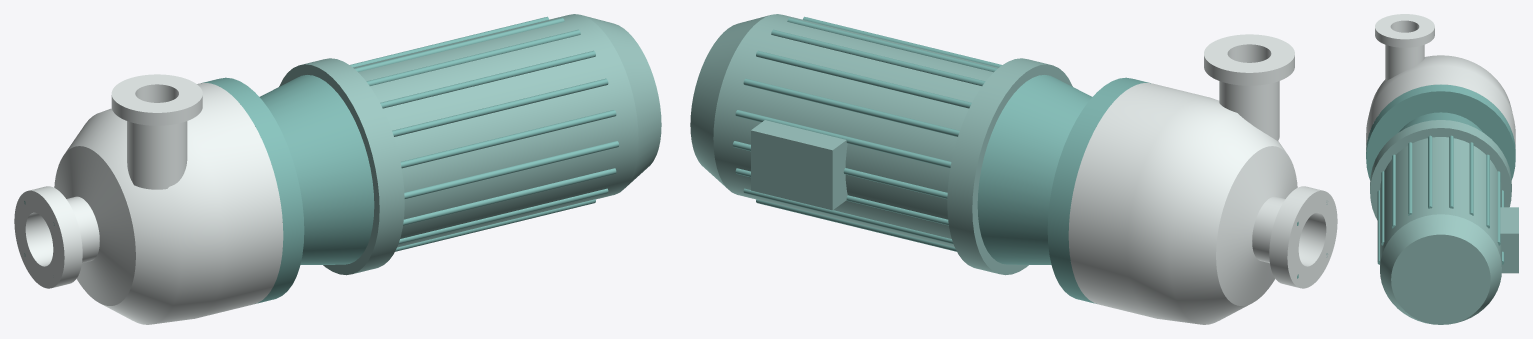
The picture shows the model from 3 angles, left to right: view 1: azimuth 30°, elevation 25°; view 2: azimuth 150°, elevation 25°; view 3: azimuth 270°, elevation 25°; orthographic projection. The views are drawn at different scales.
Parts seen in each view (by area): view 1: 泵体_圆弧壳与轴向进液口, 电机_带筋机壳, 连接座_短连接段, 电机_连接法兰, 连接座_泵壳连接环, 接口_朝上出液法兰, 接口_偏置竖向出液管, 电机_圆弧尾罩, 电机_散热筋09, 电机_散热筋08, 电机_散热筋10, 电机_散热筋07 (+6 smaller); view 2: 泵体_圆弧壳与轴向进液口, 电机_带筋机壳, 连接座_短连接段, 电机_连接法兰, 电机_接线盒, 连接座_泵壳连接环, 接口_朝上出液法兰, 电机_圆弧尾罩, 接口_偏置竖向出液管, 电机_散热筋03, 电机_散热筋04, 电机_散热筋05 (+7 smaller); view 3: 电机_圆弧尾罩, 电机_带筋机壳, 连接座_泵壳连接环, 泵体_圆弧壳与轴向进液口, 电机_连接法兰, 接口_朝上出液法兰, 电机_接线盒, 接口_偏置竖向出液管, 连接座_短连接段, 电机_散热筋05, 电机_散热筋04, 电机_散热筋06 (+6 smaller).
Part boxes in pixels (<box>): 泵体_圆弧壳与轴向进液口: <box>14,83,283,324</box>; 电机_带筋机壳: <box>353,14,638,247</box>; 连接座_短连接段: <box>259,75,374,264</box>; 电机_连接法兰: <box>279,58,404,275</box>; 连接座_泵壳连接环: <box>201,77,304,303</box>; 接口_朝上出液法兰: <box>111,74,202,125</box>; 接口_偏置竖向出液管: <box>127,97,187,189</box>; 电机_圆弧尾罩: <box>581,15,661,187</box>; 电机_散热筋09: <box>400,110,616,168</box>; 电机_散热筋08: <box>392,78,608,136</box>; 电机_散热筋10: <box>404,141,619,198</box>; 电机_散热筋07: <box>380,50,595,108</box>; 泵体_圆弧壳与轴向进液口: <box>1068,83,1337,324</box>; 电机_带筋机壳: <box>713,14,998,247</box>; 连接座_短连接段: <box>977,75,1092,264</box>; 电机_连接法兰: <box>947,58,1072,275</box>; 电机_接线盒: <box>751,120,847,210</box>; 连接座_泵壳连接环: <box>1047,77,1150,303</box>; 接口_朝上出液法兰: <box>1204,34,1294,85</box>; 电机_圆弧尾罩: <box>690,15,770,187</box>; 接口_偏置竖向出液管: <box>1219,57,1279,141</box>; 电机_散热筋03: <box>743,78,959,136</box>; 电机_散热筋04: <box>756,50,971,108</box>; 电机_散热筋05: <box>771,29,985,85</box>; 电机_圆弧尾罩: <box>1380,214,1501,324</box>; 电机_带筋机壳: <box>1380,137,1501,266</box>; 连接座_泵壳连接环: <box>1366,84,1515,180</box>; 泵体_圆弧壳与轴向进液口: <box>1366,55,1515,151</box>; 电机_连接法兰: <box>1370,120,1511,220</box>; 接口_朝上出液法兰: <box>1375,14,1434,47</box>; 电机_接线盒: <box>1500,207,1518,273</box>; 接口_偏置竖向出液管: <box>1385,29,1424,80</box>; 连接座_短连接段: <box>1399,112,1482,132</box>; 电机_散热筋05: <box>1449,135,1453,208</box>; 电机_散热筋04: <box>1469,142,1473,215</box>; 电机_散热筋06: <box>1428,135,1432,208</box>.
Size of the model in its own units: 1.48 by 0.598 by 0.5096.
